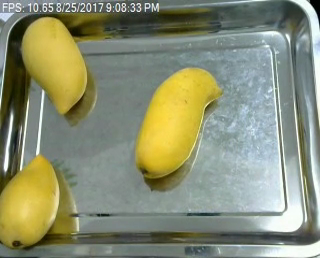Mango: (136, 65, 223, 180), (21, 17, 93, 116), (0, 153, 62, 250)
